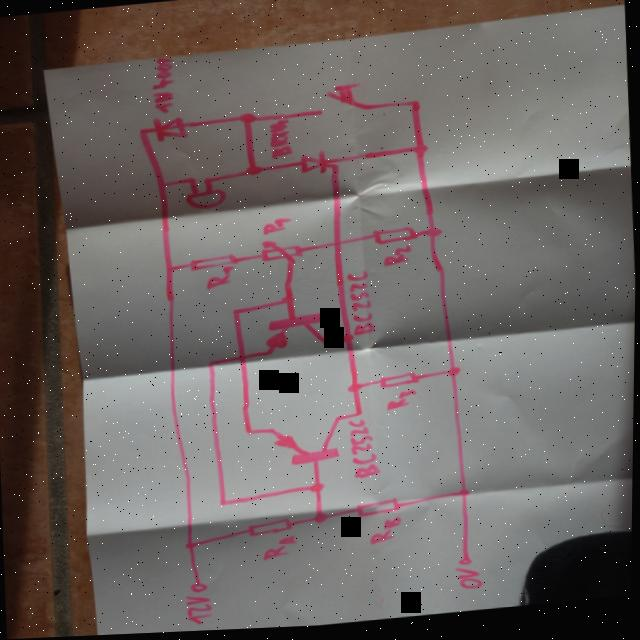crossover: (330, 240, 346, 251), (237, 354, 249, 365)
diode: (152, 115, 189, 145)
junction: (308, 480, 329, 498), (244, 164, 264, 180), (424, 229, 444, 243), (237, 113, 257, 127), (346, 383, 365, 397), (313, 513, 329, 528), (446, 369, 463, 383), (412, 145, 429, 159), (338, 335, 355, 349), (407, 101, 424, 113), (458, 491, 473, 503), (280, 297, 296, 308), (155, 181, 168, 193), (163, 265, 176, 276), (136, 128, 148, 139), (244, 428, 256, 439), (185, 542, 199, 551), (203, 177, 214, 187), (187, 178, 198, 187), (232, 309, 242, 318), (219, 501, 230, 509), (206, 361, 216, 369), (356, 414, 364, 420)
resistor: (259, 239, 305, 269), (354, 500, 403, 522), (188, 254, 239, 274), (248, 519, 295, 539), (371, 229, 418, 249), (377, 374, 422, 393)
switch: (316, 85, 369, 119)
terminal: (190, 581, 211, 597), (459, 560, 476, 571)
text: (346, 420, 383, 483), (346, 272, 378, 340), (149, 57, 178, 116), (368, 518, 405, 549), (267, 121, 295, 161), (261, 537, 300, 564), (185, 595, 215, 628), (204, 266, 239, 293), (454, 569, 486, 595), (382, 247, 415, 271), (386, 391, 419, 414), (260, 217, 294, 239)
thyristor: (298, 151, 340, 178)
transistor: (269, 418, 346, 471), (264, 314, 330, 358)
